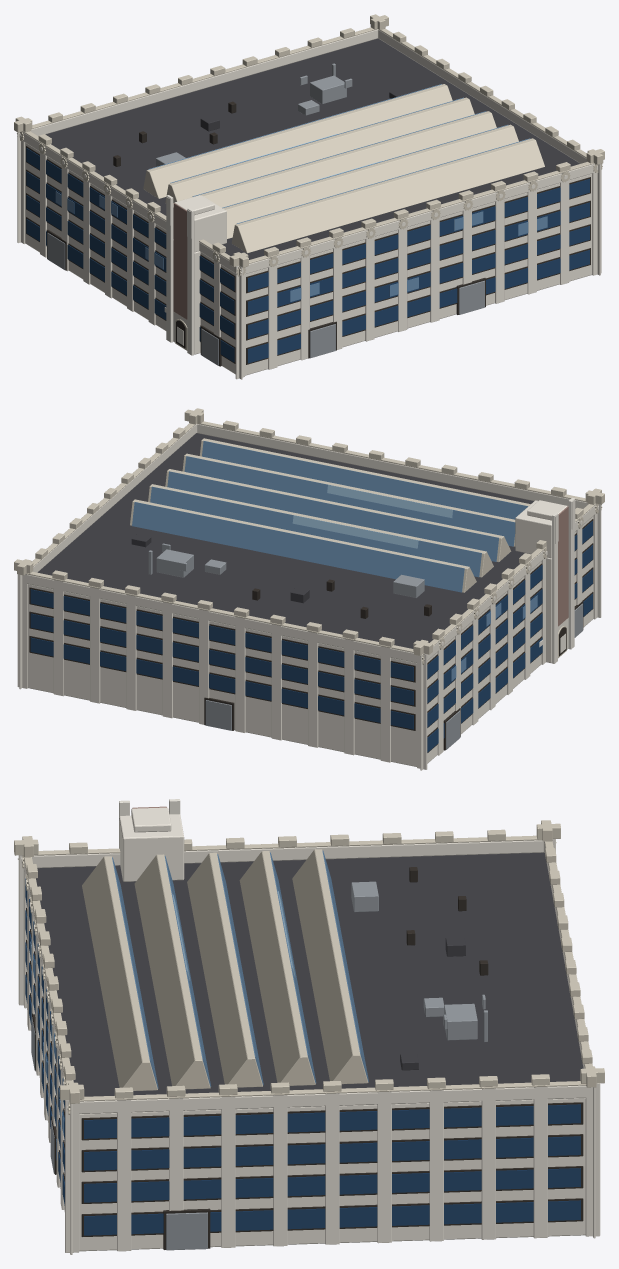
File: 375-alabama.glb
3 renders of one model, top to bottom at view 1: azimuth 30°, elevation 25°; view 2: azimuth 150°, elevation 25°; view 3: azimuth 270°, elevation 25°, orthographic. The views are drawn at different scales.
Visible parts, largest first — view 1: body, monitor0, parapet, monitor4, monitor3, monitor1, monitor2, coping, sb3_glass, sb1_glass, sb2_glass, sb0_glass (+40 smaller); view 2: body, parapet, monitor_glass4, monitor_glass2, monitor_glass0, monitor_glass3, monitor_glass1, nb1_glass, nb2_glass, nb3_glass, coping, wb1_glass (+41 smaller); view 3: body, parapet, monitor2, monitor3, monitor4, monitor1, monitor0, eb2_glass, eb1_glass, eb3_glass, eb0_glass, coping (+28 smaller).
Boxes of the visible parts, left/top/right/bottom form: body: left=25, top=38, right=592, bottom=375; monitor0: left=231, top=138, right=544, bottom=253; parapet: left=23, top=29, right=593, bottom=274; monitor4: left=143, top=84, right=452, bottom=198; monitor3: left=165, top=97, right=474, bottom=202; monitor1: left=223, top=124, right=518, bottom=239; monitor2: left=191, top=111, right=496, bottom=207; coping: left=22, top=27, right=594, bottom=266; sb3_glass: left=247, top=179, right=589, bottom=291; sb1_glass: left=247, top=226, right=589, bottom=338; sb2_glass: left=247, top=202, right=589, bottom=315; sb0_glass: left=247, top=250, right=589, bottom=363; body: left=27, top=433, right=593, bottom=766; parapet: left=22, top=424, right=595, bottom=662; monitor_glass4: left=132, top=502, right=464, bottom=592; monitor_glass2: left=167, top=471, right=498, bottom=561; monitor_glass0: left=202, top=441, right=527, bottom=519; monitor_glass3: left=150, top=486, right=481, bottom=577; monitor_glass1: left=184, top=456, right=515, bottom=546; nb1_glass: left=30, top=637, right=413, bottom=729; nb2_glass: left=30, top=613, right=413, bottom=705; nb3_glass: left=30, top=589, right=413, bottom=681; coping: left=26, top=421, right=596, bottom=654; wb1_glass: left=427, top=569, right=592, bottom=727; body: left=26, top=852, right=585, bottom=1251; parapet: left=24, top=840, right=592, bottom=1113; monitor2: left=187, top=852, right=262, bottom=1087; monitor3: left=239, top=851, right=315, bottom=1085; monitor4: left=292, top=849, right=368, bottom=1084; monitor1: left=134, top=854, right=210, bottom=1089; monitor0: left=82, top=856, right=157, bottom=1090; eb2_glass: left=84, top=1136, right=580, bottom=1170; eb1_glass: left=84, top=1168, right=580, bottom=1202; eb3_glass: left=84, top=1104, right=580, bottom=1138; eb0_glass: left=84, top=1200, right=580, bottom=1235; coping: left=23, top=835, right=592, bottom=1101.
Size of the model in its own units: 67.32 by 22.5 by 61.61.
